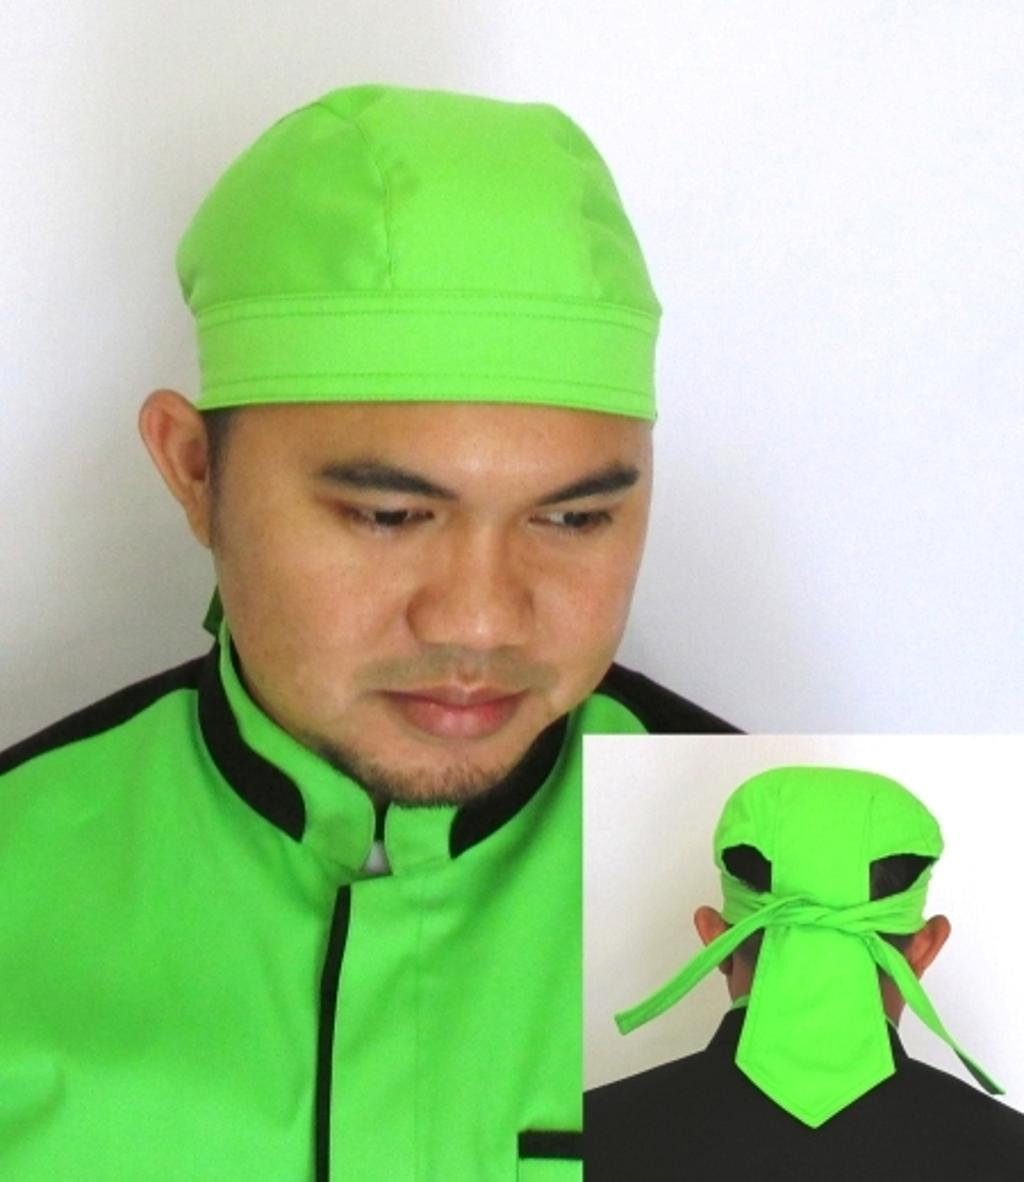face: (208, 309, 651, 805)
